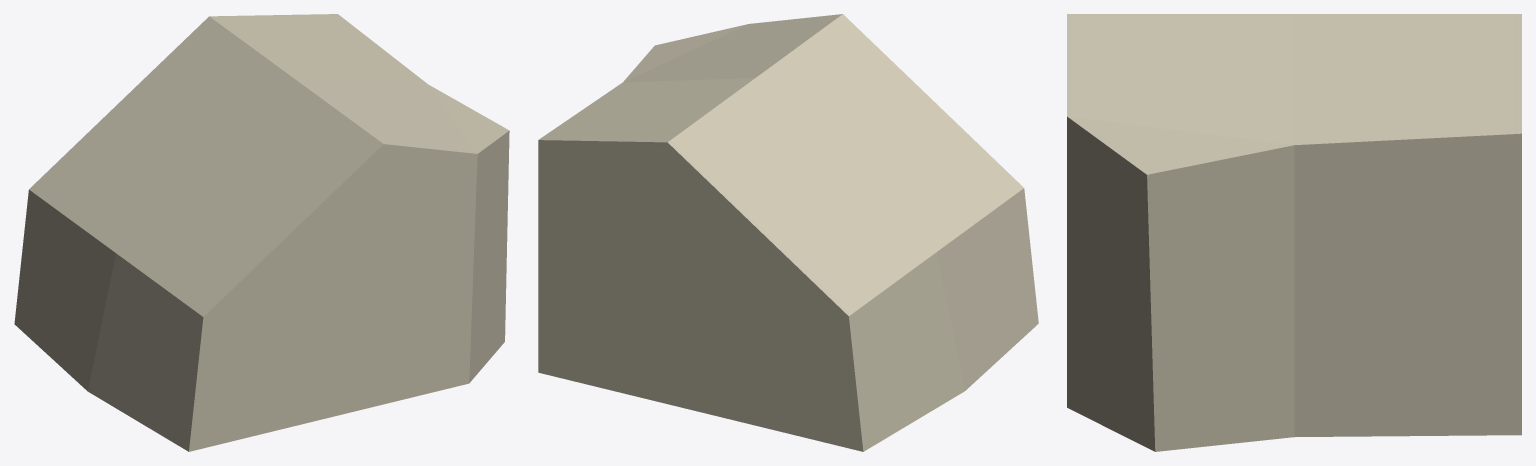
The model's file is Rock_Square_s_10.fbx.
3 views of the same model, side by side, from view 1: azimuth 30°, elevation 25°; view 2: azimuth 150°, elevation 25°; view 3: azimuth 270°, elevation 25° (orthographic). The views are drawn at different scales.
Parts seen in each view (by area): view 1: Rock_Square_s_10; view 2: Rock_Square_s_10; view 3: Rock_Square_s_10.
Boxes of the visible parts, <box> form: Rock_Square_s_10: <box>14,14,509,451</box>; Rock_Square_s_10: <box>538,14,1038,451</box>; Rock_Square_s_10: <box>1067,14,1521,451</box>.
Size of the model in its own units: 48.67 by 33.16 by 40.28.
